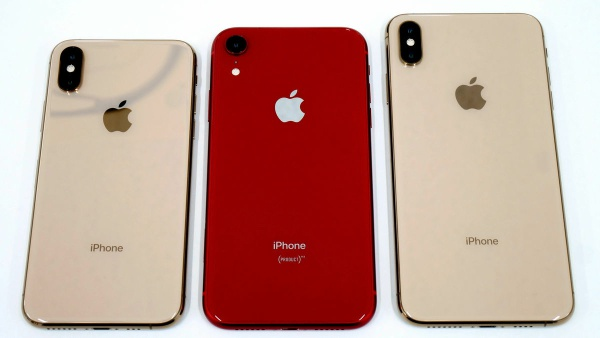apple: (440, 67, 498, 127), (261, 84, 315, 144), (91, 92, 152, 137)
